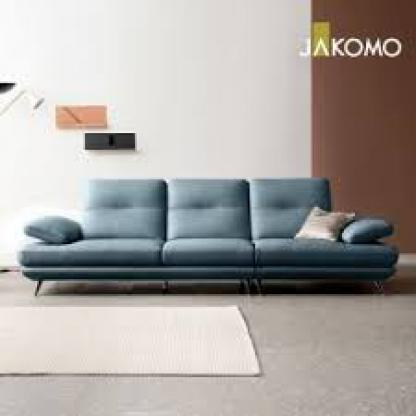sofa: (20, 176, 414, 294)
